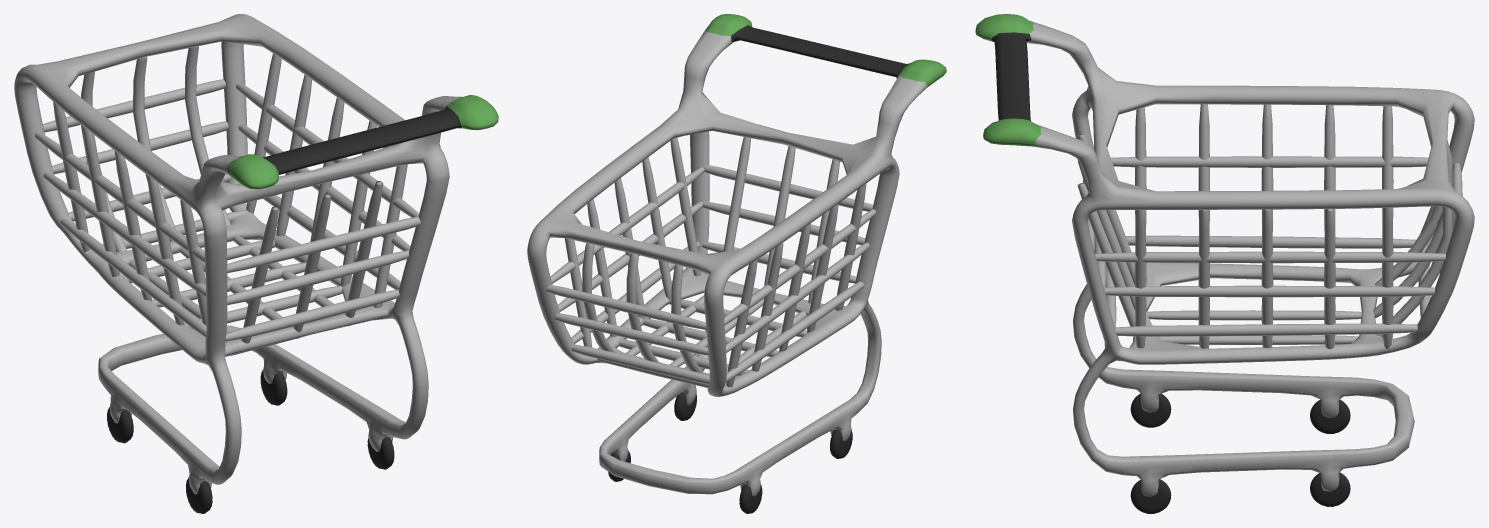
Rendered from ShoppingCart.fbx.
3 views of the same model, side by side, from view 1: azimuth 30°, elevation 25°; view 2: azimuth 150°, elevation 25°; view 3: azimuth 270°, elevation 25° (orthographic). The views are drawn at different scales.
Visible parts, largest first — view 1: ShoppingCart; view 2: ShoppingCart; view 3: ShoppingCart.
Part boxes in pixels (box(x1,y1,x2,y2)): ShoppingCart: box(14, 14, 498, 513); ShoppingCart: box(527, 14, 946, 513); ShoppingCart: box(975, 14, 1474, 513).
Size of the model in its own units: 63.78 by 96.77 by 109.
